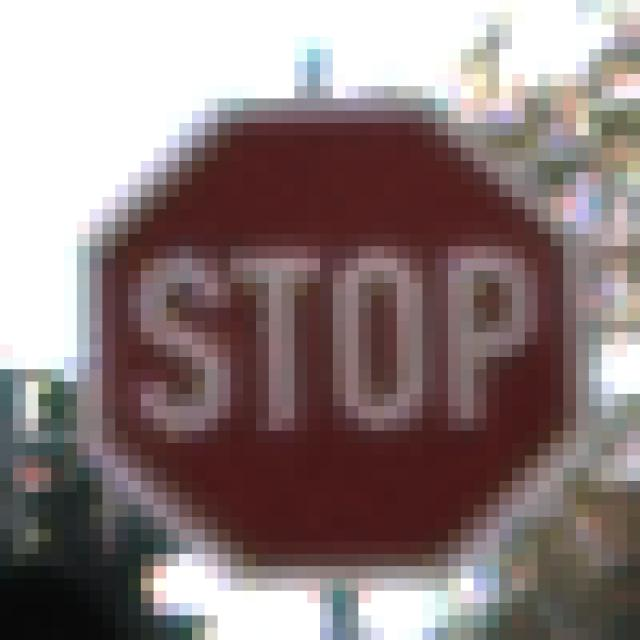STOP: (78, 75, 577, 567)
